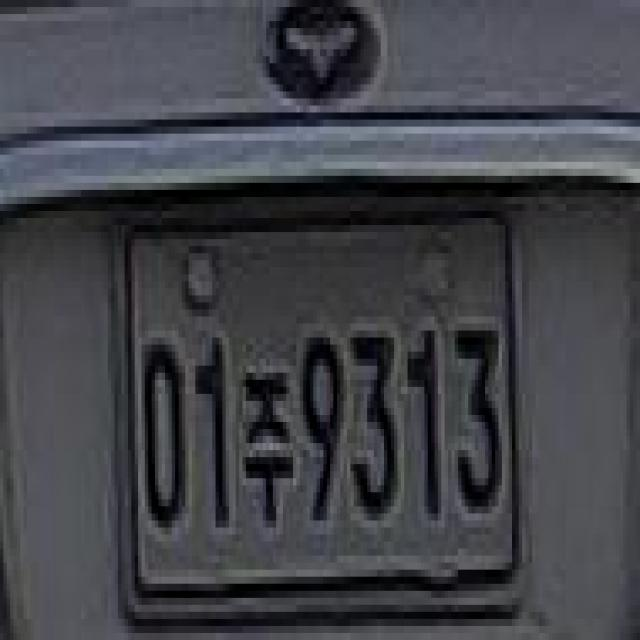illegal_plate: (110, 202, 536, 634)
